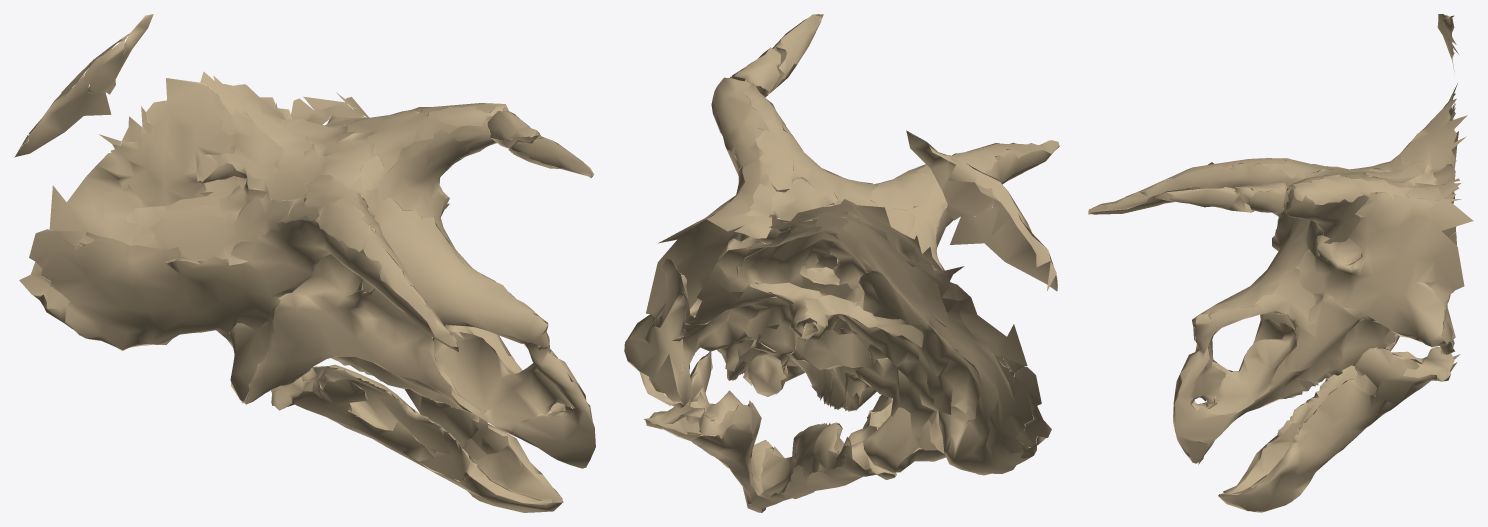
File: FossilScan1.glb
The picture shows the model from 3 angles, left to right: view 1: azimuth 30°, elevation 25°; view 2: azimuth 150°, elevation 25°; view 3: azimuth 270°, elevation 25°; orthographic projection. The views are drawn at different scales.
Parts seen in each view (by area): view 1: FossilScan1; view 2: FossilScan1; view 3: FossilScan1.
Boxes of the visible parts, x1,y1,x2,y2 form: FossilScan1: (14, 14, 595, 512); FossilScan1: (624, 14, 1059, 512); FossilScan1: (1088, 14, 1473, 512).
Bounding box in the file's own units: 10.29 × 11.29 × 10.04.
